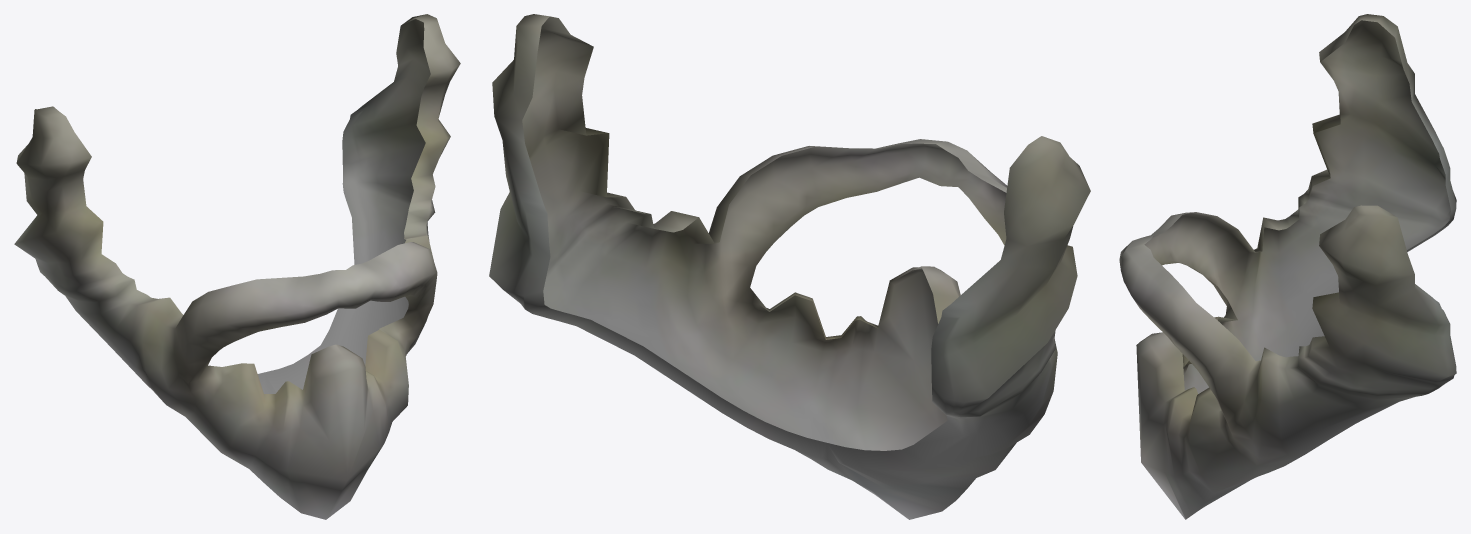
Rendered from hair_beard.glb.
3 renders of one model, left to right at view 1: azimuth 30°, elevation 25°; view 2: azimuth 150°, elevation 25°; view 3: azimuth 270°, elevation 25°, orthographic. The views are drawn at different scales.
Visible parts, largest first — view 1: Hair_Beard; view 2: Hair_Beard; view 3: Hair_Beard.
Boxes of the visible parts, x1,y1,x2,y2 form: Hair_Beard: [14, 14, 460, 519]; Hair_Beard: [489, 14, 1090, 519]; Hair_Beard: [1119, 14, 1456, 519].
Bounding box in the file's own units: 0.1615 × 0.1398 × 0.1049.
1 material, 1 textured.
